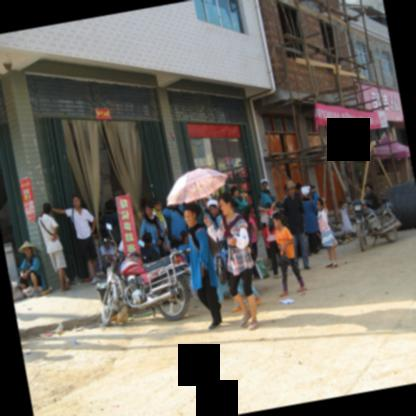handbag: (215, 238, 227, 284), (254, 254, 271, 279), (277, 246, 291, 268), (39, 219, 53, 236), (71, 222, 77, 238)
